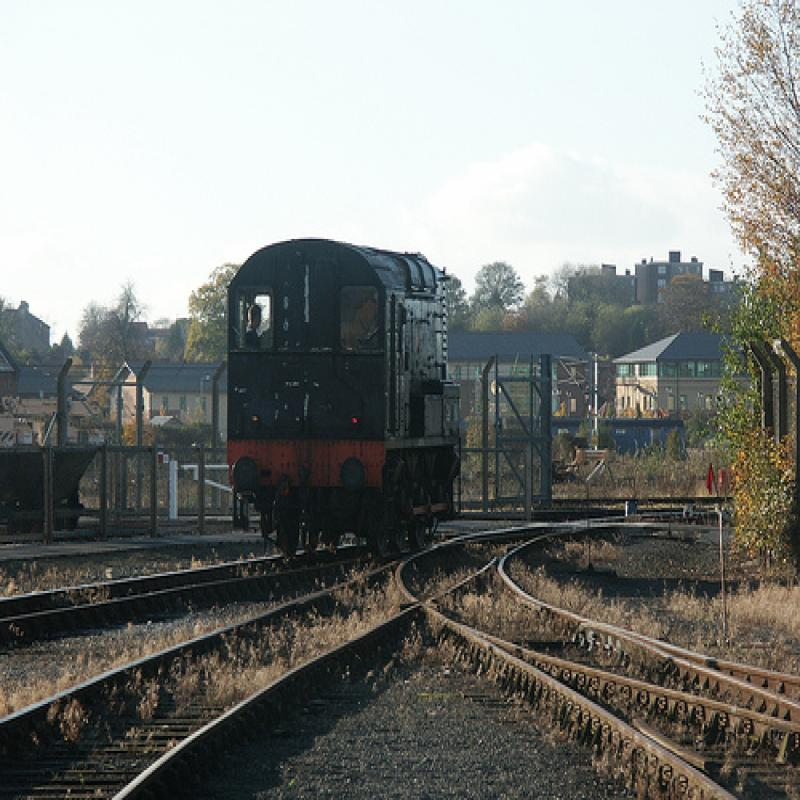train: (227, 229, 468, 556)
